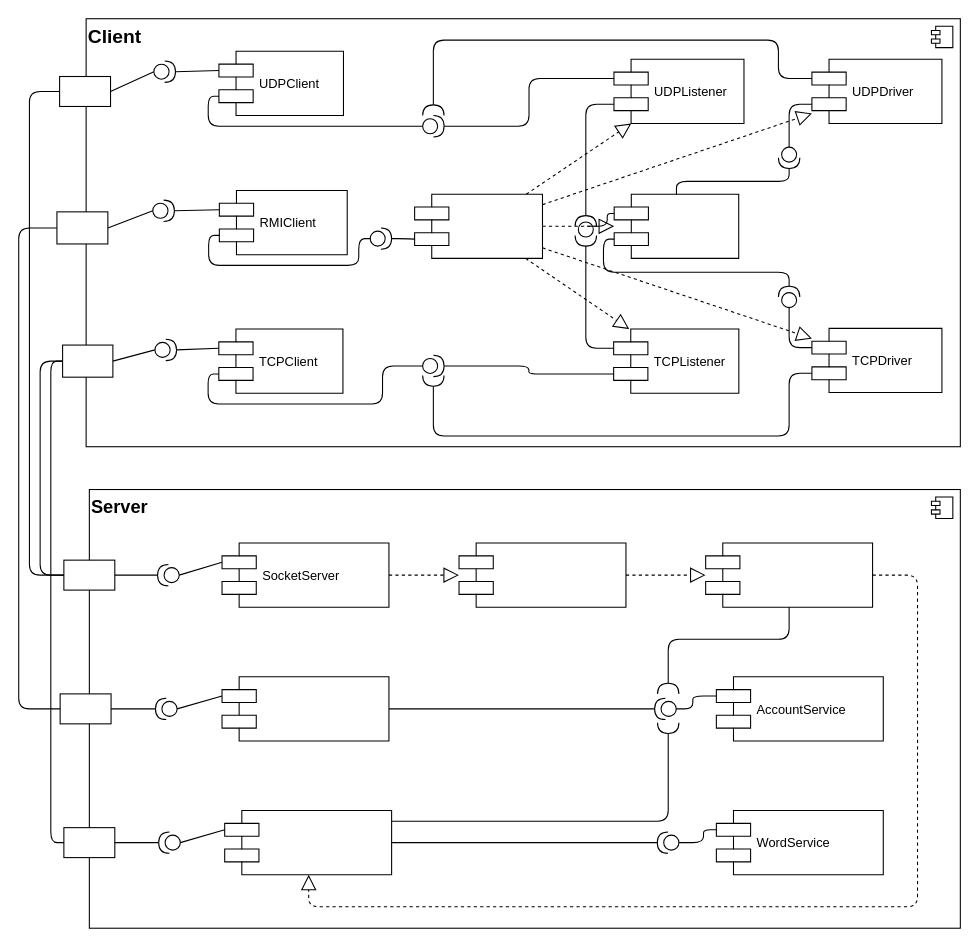
This 979x947 diagram has some shape labels left out. Each missing label, with the centre of its shape:
"App" goes at (676,225).
"ChallengeServer" goes at (308,842).
"DispatcherTask" goes at (542,574).
"Login" goes at (478,225).
"RegistrationService" goes at (305,708).
"WorkerTask" goes at (789,574).
